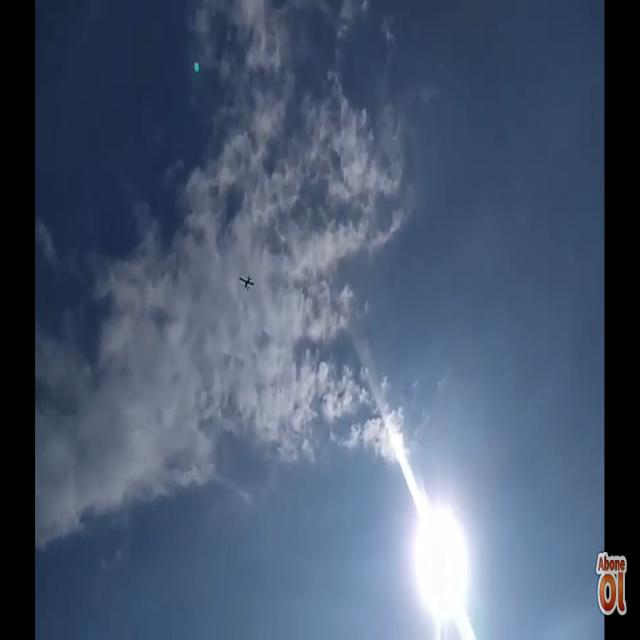iha: (239, 272, 254, 292)
